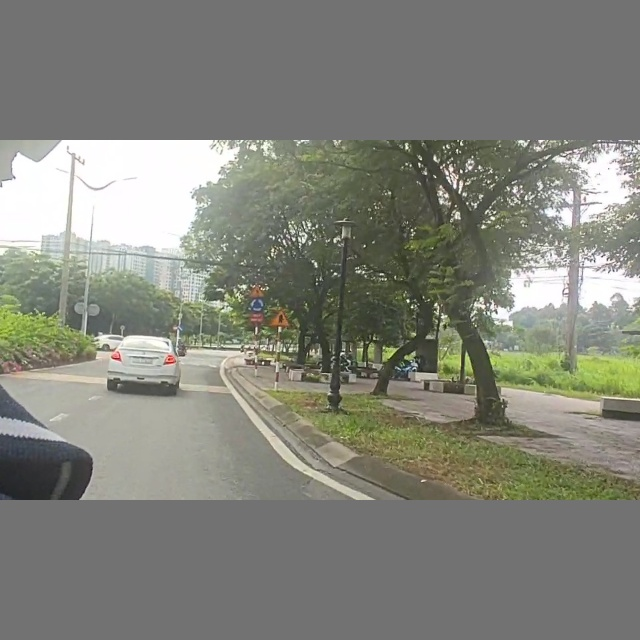P.102: (172, 324, 177, 330)
R.302a: (178, 325, 185, 332)
R.303: (249, 297, 267, 311)
W.207: (269, 308, 291, 327)
W.224: (249, 285, 267, 297)
